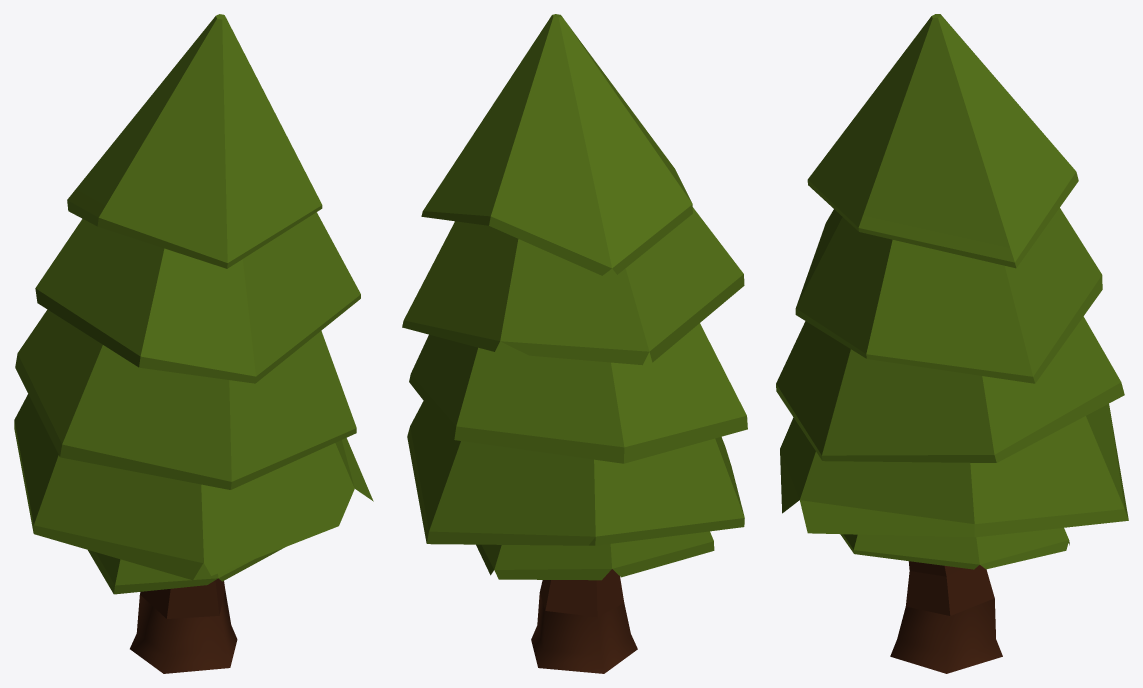
The model's file is Tree_00.FBX.
3 renders of one model, left to right at view 1: azimuth 30°, elevation 25°; view 2: azimuth 150°, elevation 25°; view 3: azimuth 270°, elevation 25°, orthographic. The views are drawn at different scales.
Parts seen in each view (by area): view 1: Object005, Cylinder002; view 2: Object005, Cylinder002; view 3: Object005, Cylinder002.
Boxes of the visible parts, box(x1,y1,x2,y2) form: Object005: box(14, 14, 373, 594); Cylinder002: box(130, 578, 237, 673); Object005: box(402, 14, 747, 580); Cylinder002: box(531, 569, 637, 673); Object005: box(776, 14, 1128, 569); Cylinder002: box(890, 561, 1002, 673).
Bounding box in the file's own units: 25.41 × 47.79 × 23.58.
